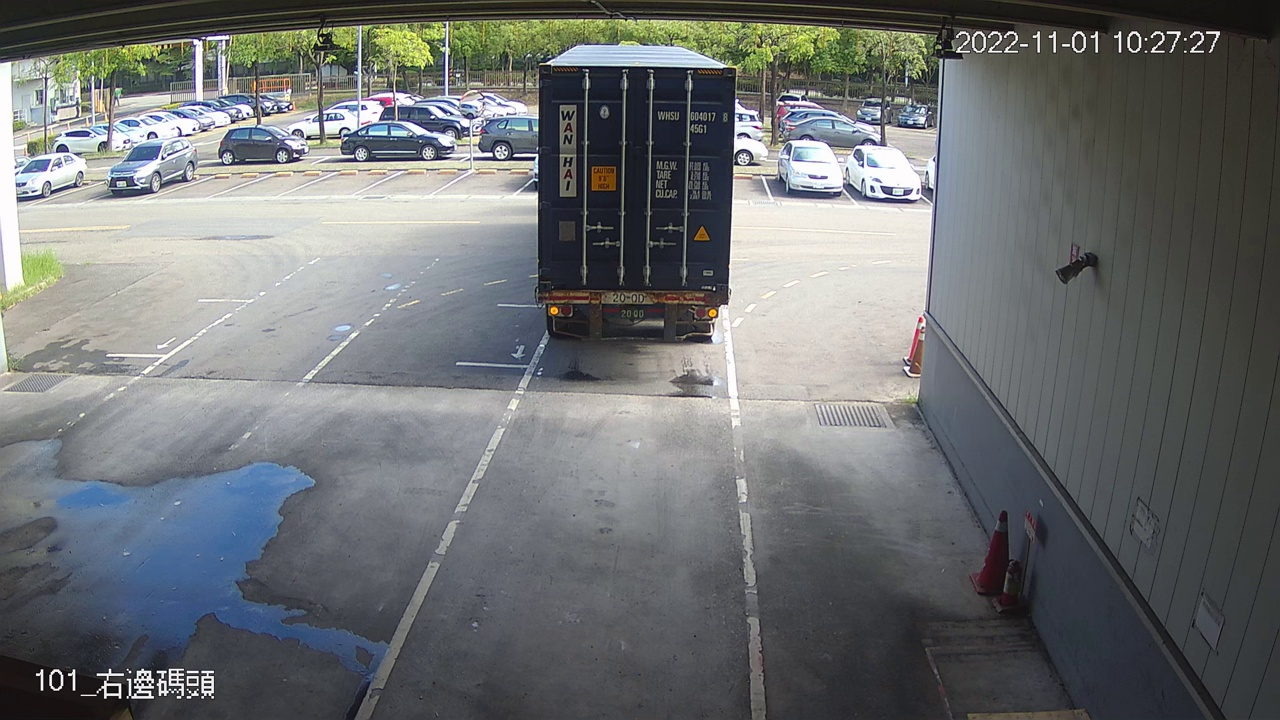container: (655, 107, 729, 140)
